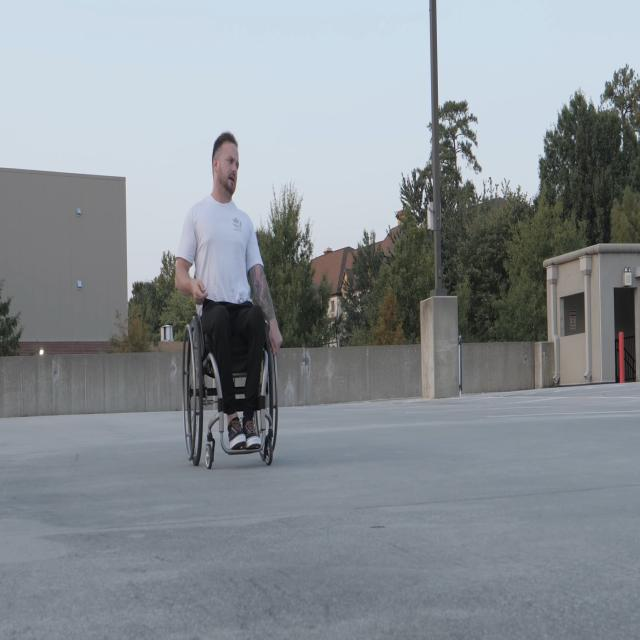wheelchairs: (182, 261, 282, 470)
